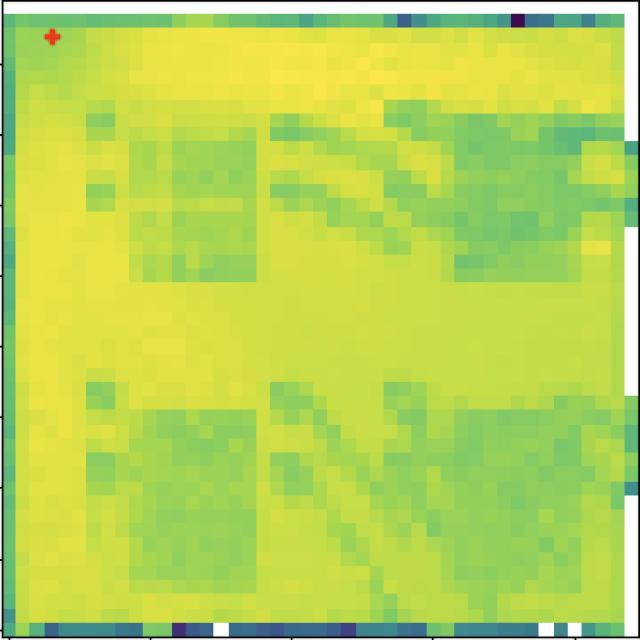Concrete: (125, 399, 273, 604)
Glass: (420, 103, 600, 313)
Metal: (121, 121, 279, 312)
Wood: (436, 401, 594, 608)
